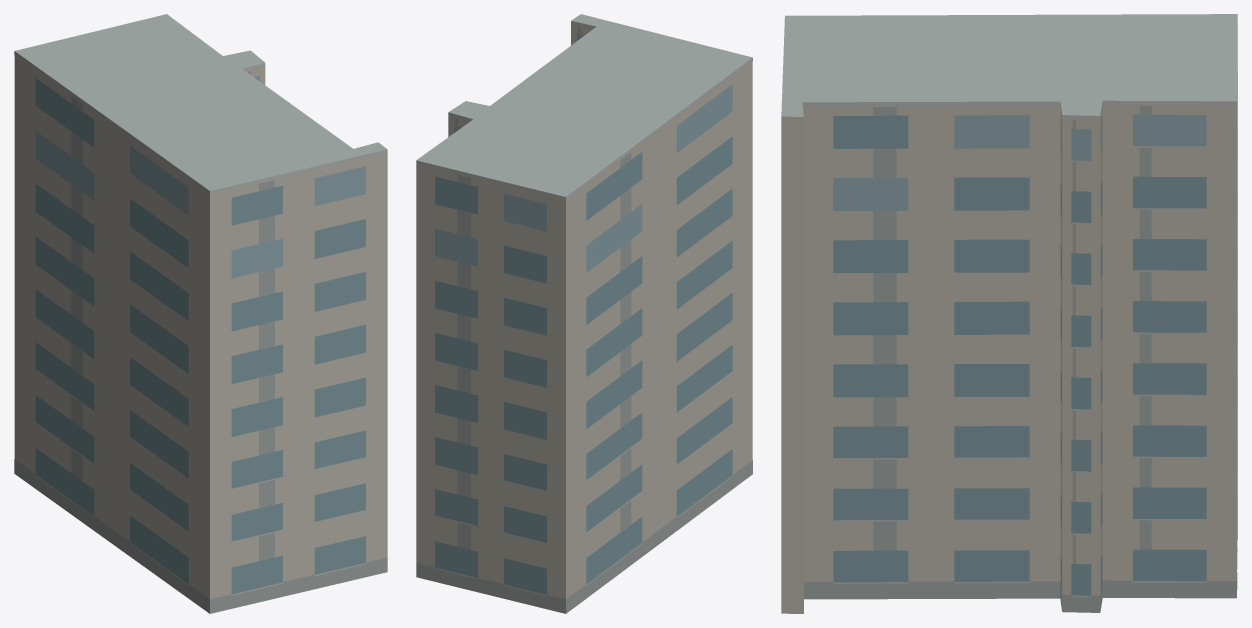
The model's file is survey-upis-32820315.glb.
The picture shows the model from 3 angles, left to right: view 1: azimuth 30°, elevation 25°; view 2: azimuth 150°, elevation 25°; view 3: azimuth 270°, elevation 25°; orthographic projection. The views are drawn at different scales.
Visible parts, largest first — view 1: survey-upis-32820315.tmp; view 2: survey-upis-32820315.tmp; view 3: survey-upis-32820315.tmp.
Part boxes in pixels (x1=…): survey-upis-32820315.tmp: x1=14, y1=14, x2=387, y2=613; survey-upis-32820315.tmp: x1=416, y1=14, x2=752, y2=613; survey-upis-32820315.tmp: x1=781, y1=14, x2=1237, y2=613.
Size of the model in its own units: 10.84 by 24.4 by 20.31.
